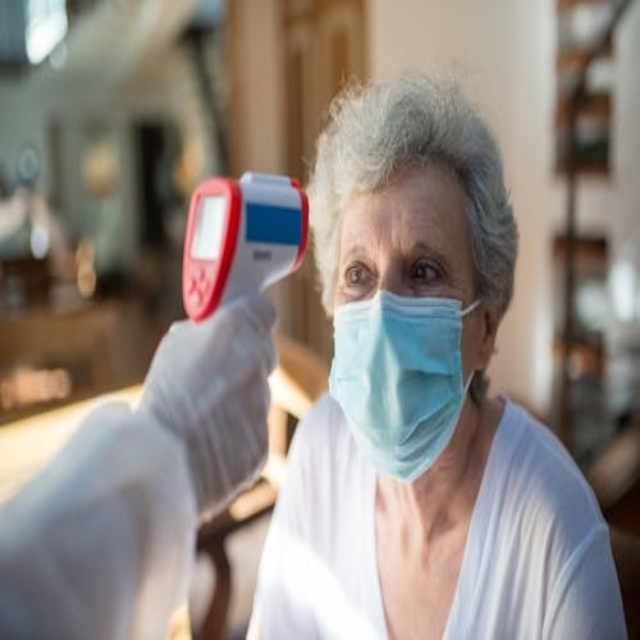Guantes: (120, 280, 285, 517)
Mascara: (327, 288, 481, 482)
Sin_gafas: (338, 263, 474, 306)
